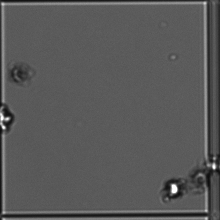Dead Cell: (7, 53, 44, 100)
Living Cell: (164, 176, 183, 202), (1, 104, 15, 137)
